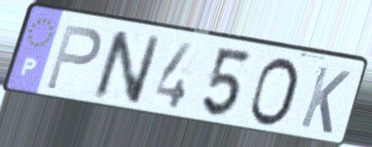4: (152, 40, 195, 114)
5: (200, 44, 256, 122)
K: (297, 63, 353, 138)
N: (90, 28, 165, 107)
O: (245, 55, 301, 129)
P: (43, 21, 105, 93)
